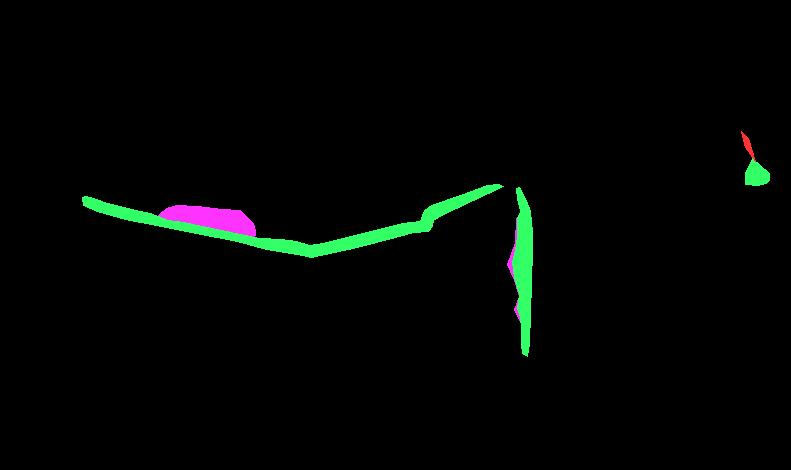Broken part: (82, 184, 503, 257), (512, 187, 532, 356), (745, 158, 769, 185)
Dent: (151, 205, 255, 241), (507, 201, 527, 328)
Missing part: (741, 131, 755, 161)
